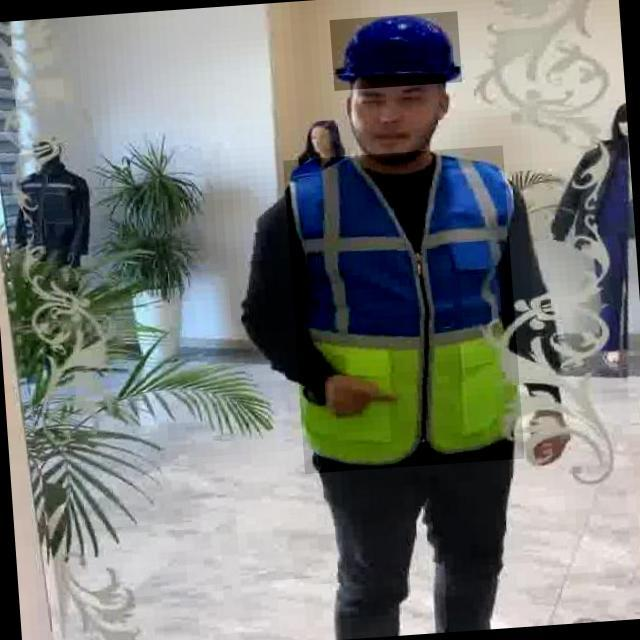Helmet: (330, 11, 463, 92)
Safety Vest: (283, 145, 525, 474)
